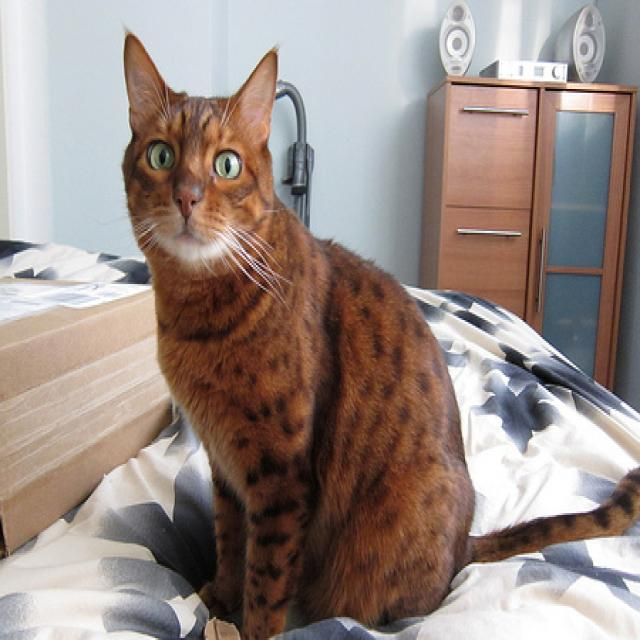Bengal: (115, 17, 640, 640)
